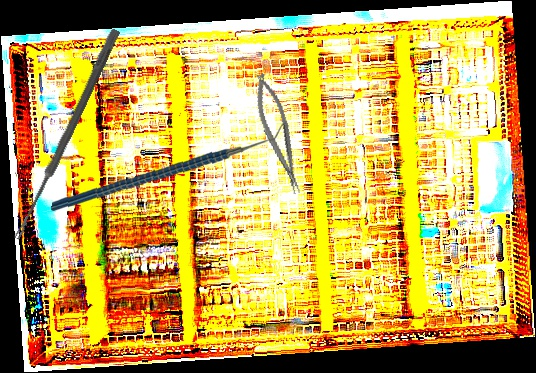Chopper: (51, 110, 287, 220)
Needle Holder: (248, 70, 307, 198)
Surgical Spoon: (12, 27, 121, 242)
